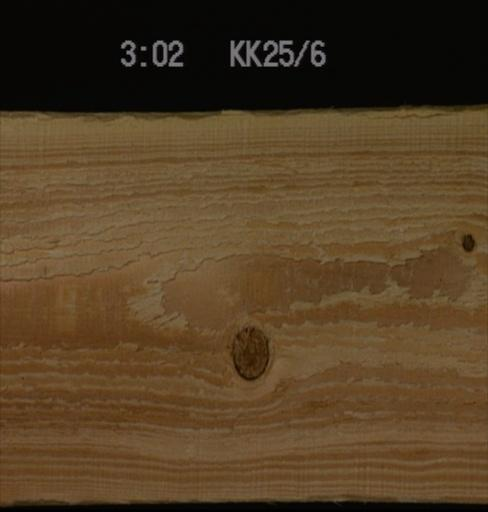dry_knot: (228, 321, 270, 381), (458, 229, 475, 254)
split: (365, 110, 461, 127)
wave: (0, 108, 323, 123), (307, 492, 485, 505)
